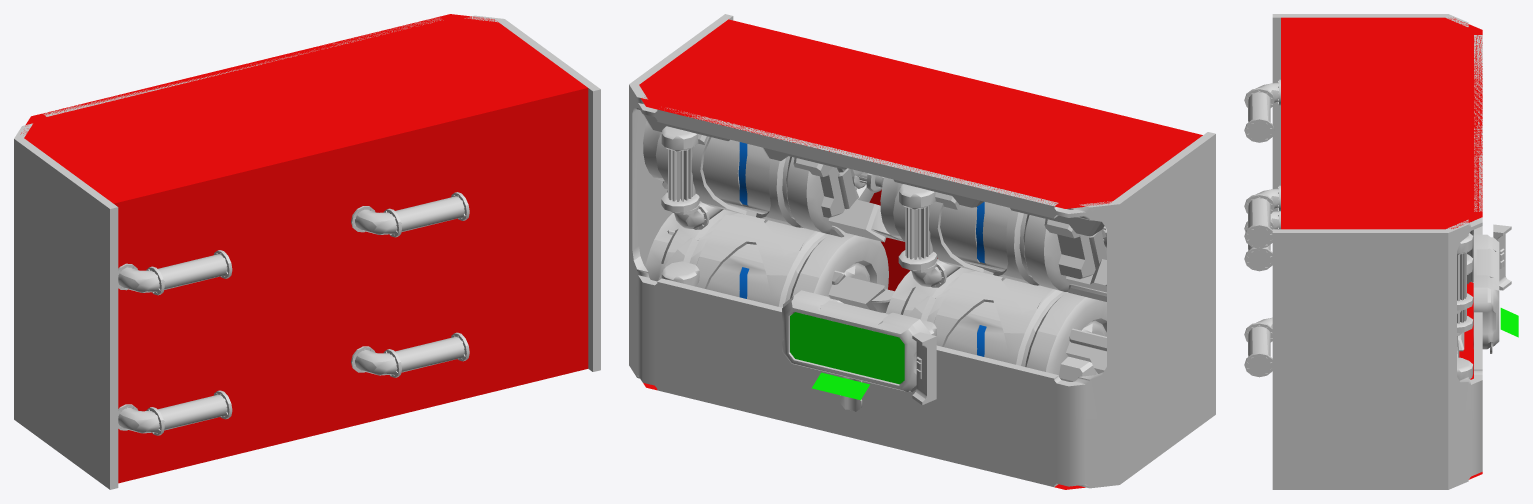
File: Baked_Model_01.fbx
3 renders of one model, left to right at view 1: azimuth 30°, elevation 25°; view 2: azimuth 150°, elevation 25°; view 3: azimuth 270°, elevation 25°, orthographic. The views are drawn at different scales.
Visible parts, largest first — view 1: Terminal_Test_1; view 2: Terminal_Test_1; view 3: Terminal_Test_1.
Boxes of the visible parts, x1=… form: Terminal_Test_1: x1=14, y1=14, x2=600, y2=489; Terminal_Test_1: x1=629, y1=14, x2=1215, y2=489; Terminal_Test_1: x1=1244, y1=14, x2=1518, y2=489.
Size of the model in its own units: 8.34 by 4.57 by 4.41.
